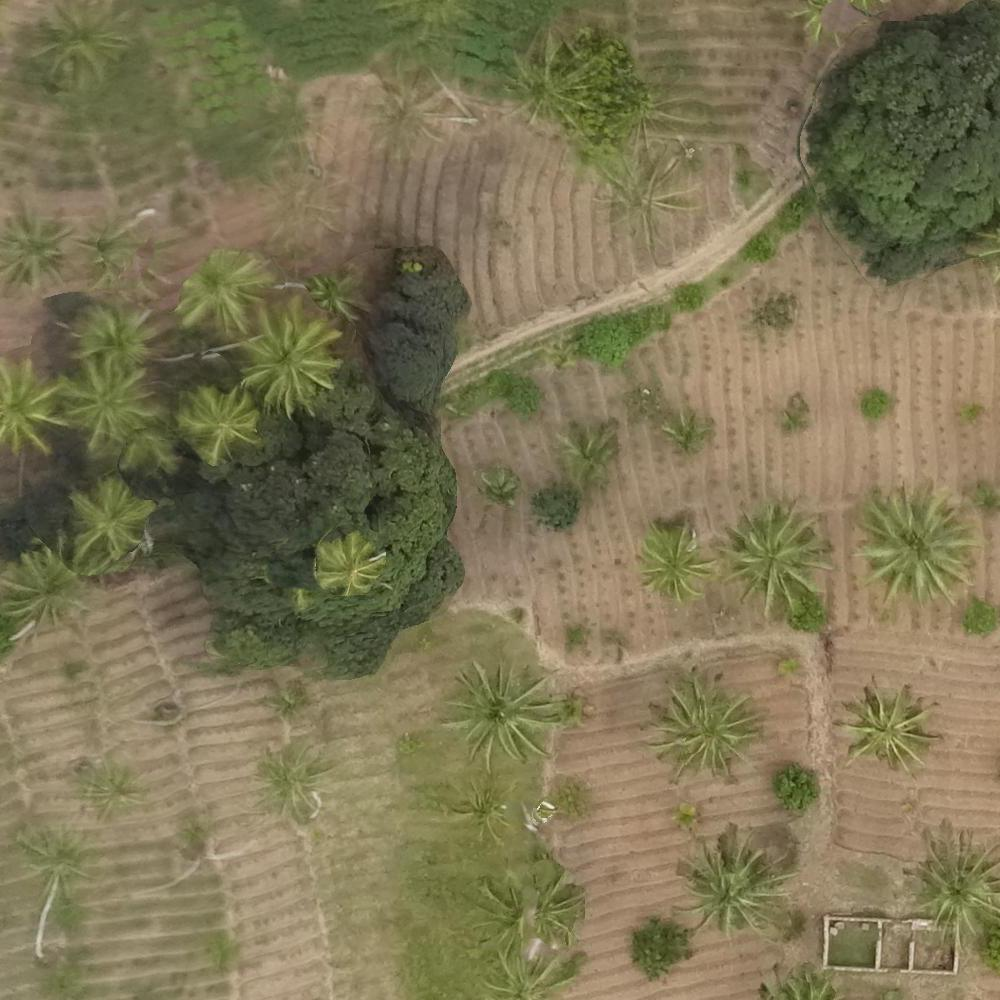Palm: (449, 656, 561, 764), (861, 488, 966, 602), (728, 502, 833, 611), (677, 831, 783, 933), (655, 677, 755, 776), (240, 310, 338, 404), (906, 841, 1000, 938), (31, 8, 123, 85), (64, 360, 151, 441), (182, 254, 269, 333), (844, 685, 930, 762), (1, 198, 70, 293), (637, 517, 716, 598), (2, 359, 68, 451), (178, 384, 261, 457), (71, 479, 152, 552), (2, 556, 78, 632), (14, 821, 96, 891), (252, 746, 323, 811), (72, 302, 151, 360), (452, 781, 519, 843), (316, 535, 387, 592)
